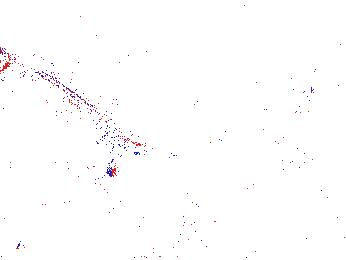glassfish: (1, 39, 149, 177)
